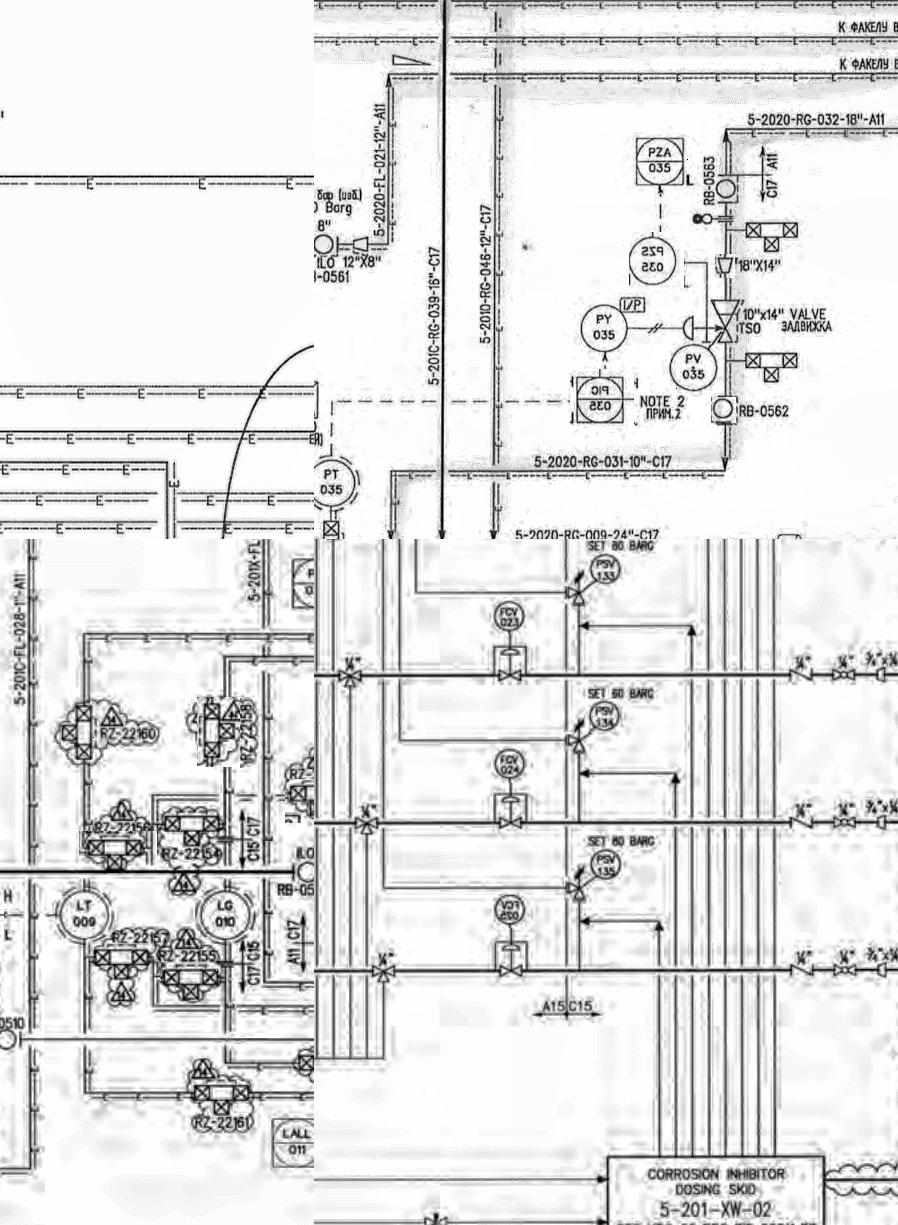2 WAY VALVE: (79, 831, 157, 875), (153, 805, 231, 849), (86, 939, 160, 985), (54, 695, 100, 766), (197, 697, 240, 768), (189, 1078, 254, 1122), (744, 348, 808, 388), (743, 216, 803, 258), (162, 964, 223, 1005), (285, 780, 314, 825), (293, 1048, 314, 1090), (314, 515, 350, 539)
3 WAY GENERAL VALVE: (366, 962, 404, 988), (350, 814, 384, 840), (337, 668, 365, 692)
ANGLE RELIEF VALVE: (563, 854, 590, 908), (563, 714, 591, 760), (563, 566, 588, 610)
CONCENTRIC REDUCER: (345, 234, 378, 253), (716, 254, 737, 278), (875, 959, 890, 984), (874, 812, 889, 834)
DCS ACCESSIBLE: (571, 370, 636, 430), (631, 126, 688, 190), (266, 1112, 314, 1174), (285, 551, 314, 614)
DIAPHRAGM ACTUATED VALVE: (492, 794, 530, 834), (493, 646, 526, 688), (496, 944, 526, 982)
DUPLEX RECEPTACLE: (774, 527, 805, 539)
END CAP: (676, 312, 700, 342), (677, 316, 701, 344)
FIELD INSTRUMENT: (48, 877, 118, 945), (188, 886, 262, 946), (314, 451, 363, 514), (630, 233, 684, 290), (669, 346, 723, 394), (581, 300, 630, 352), (490, 599, 530, 634), (492, 745, 528, 783), (589, 846, 621, 884), (494, 895, 529, 929), (590, 554, 624, 586), (590, 700, 620, 734), (314, 233, 340, 263), (712, 398, 738, 425), (714, 179, 741, 204), (0, 1023, 22, 1053), (295, 856, 314, 886)
NEEDLE VALVE: (419, 1206, 454, 1225)
PLUG VALVE: (832, 959, 862, 981), (826, 666, 860, 685), (830, 812, 861, 832)
REVISION TRIANGLE: (188, 1051, 218, 1085), (110, 977, 137, 1011)
SPECIAL PIPING ITEM: (314, 375, 325, 429)
SPECTACLE BLIND OPEN: (687, 212, 746, 230)
